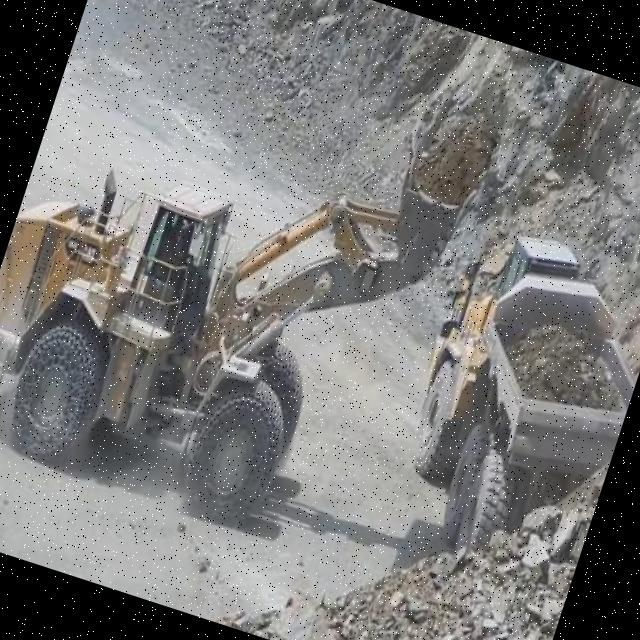Dump Truck: (371, 208, 640, 594)
Loader: (0, 0, 507, 571)
